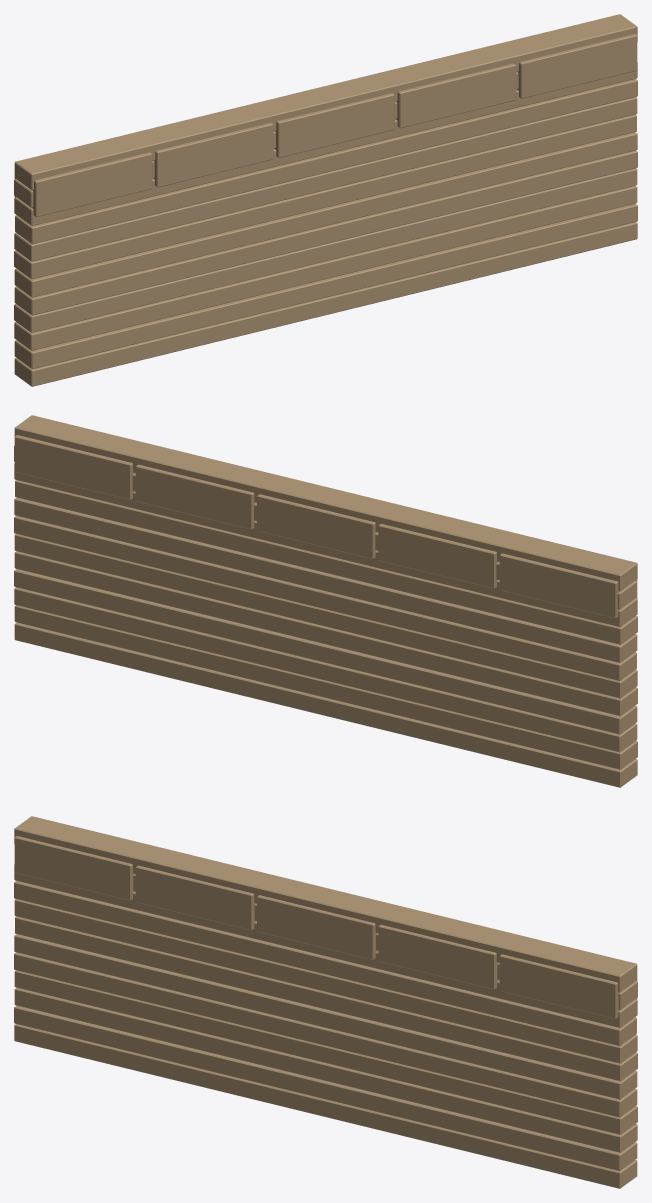
Rendered from covers_barricade_rue.glb.
3 renders of one model, top to bottom at view 1: azimuth 30°, elevation 25°; view 2: azimuth 150°, elevation 25°; view 3: azimuth 330°, elevation 25°, orthographic.
Parts seen in each view (by area): view 1: covers_barricade_rue; view 2: covers_barricade_rue; view 3: covers_barricade_rue.
Boxes of the visible parts, left/top/right/bottom form: covers_barricade_rue: left=14, top=14, right=637, bottom=386; covers_barricade_rue: left=14, top=415, right=637, bottom=787; covers_barricade_rue: left=14, top=816, right=637, bottom=1188.
Bounding box in the file's own units: 8 × 2.68 × 0.5.
